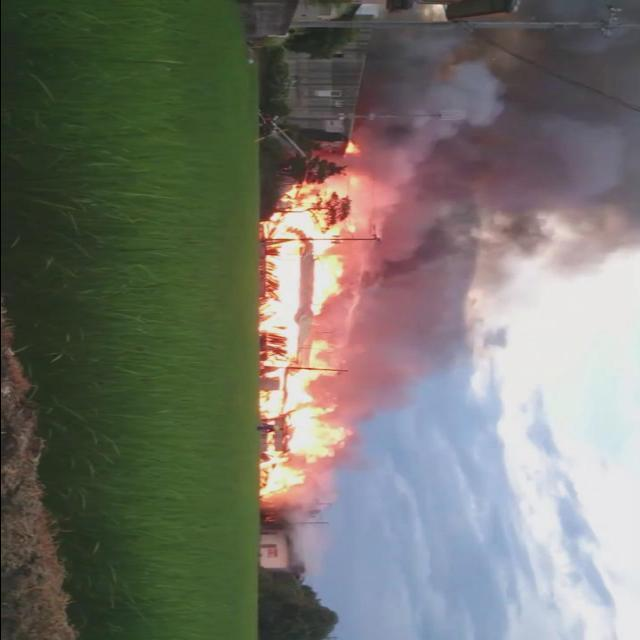Fire: (260, 176, 360, 497), (345, 142, 361, 154)
